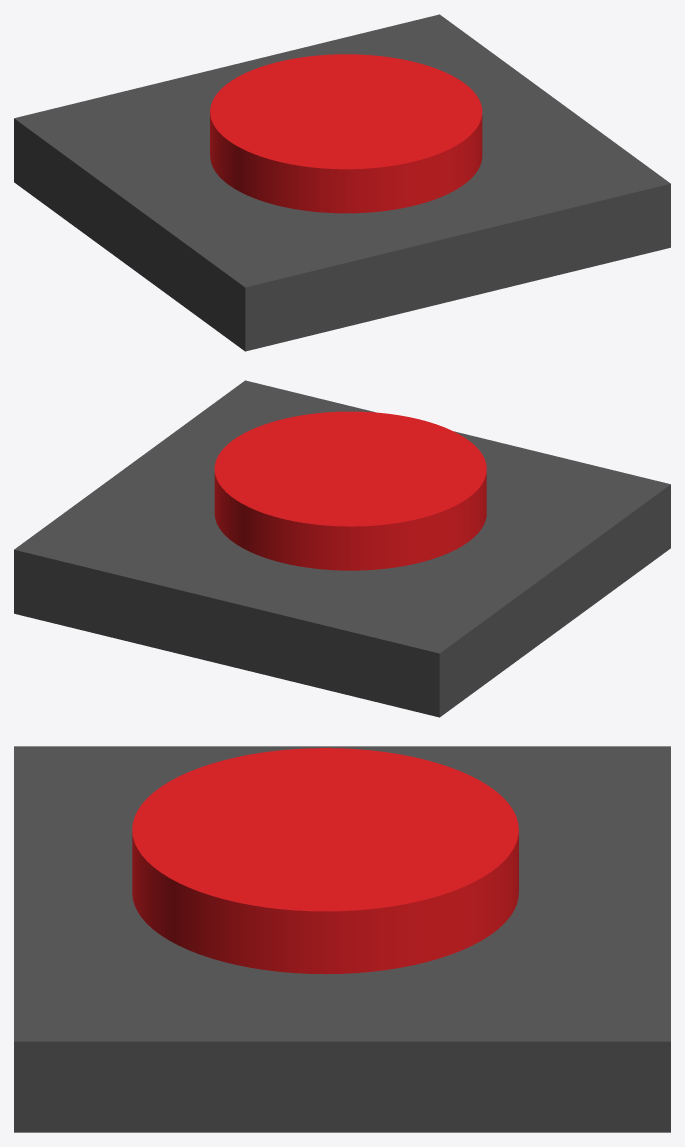
File: hehe.fbx
3 views of the same model, one above another, from view 1: azimuth 30°, elevation 25°; view 2: azimuth 150°, elevation 25°; view 3: azimuth 270°, elevation 25° (orthographic). The views are drawn at different scales.
Parts seen in each view (by area): view 1: root (×2); view 2: root (×2); view 3: root (×2).
Part boxes in pixels (box(x1,y1,x2,y2)): root (×2): box(14, 14, 670, 351); root (×2): box(14, 380, 670, 717); root (×2): box(14, 746, 670, 1132).
Bounding box in the file's own units: 39.46 × 9.58 × 37.13.
Materials: 2 (2 with a texture image).
